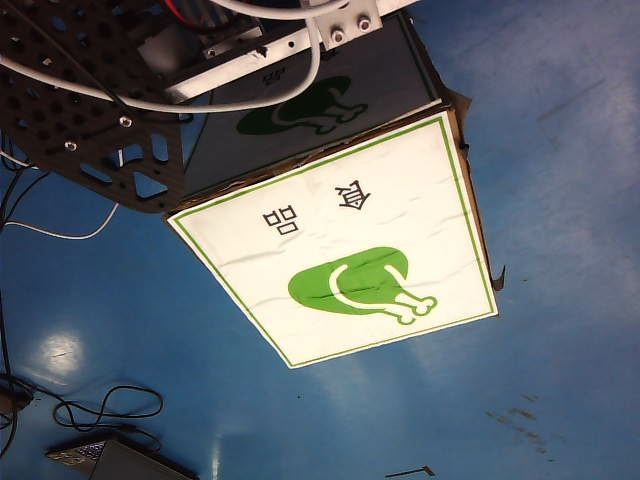Cube_food: (234, 172, 447, 333)
